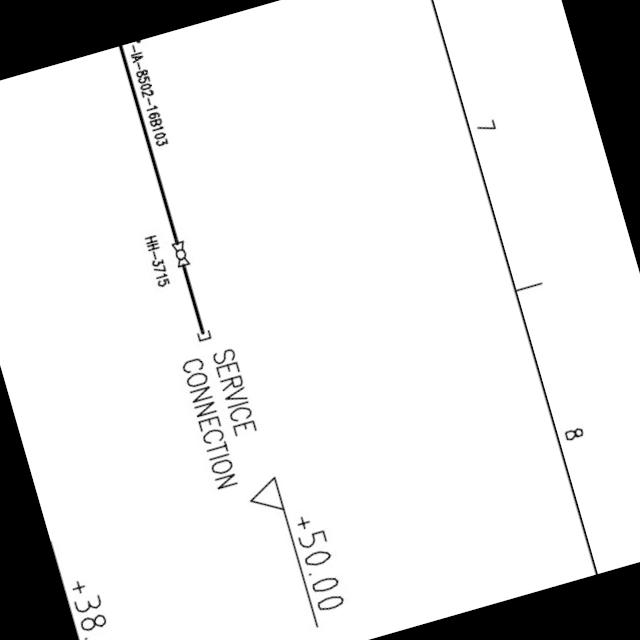BV2: (164, 235, 193, 271)
EC: (188, 309, 214, 345)
